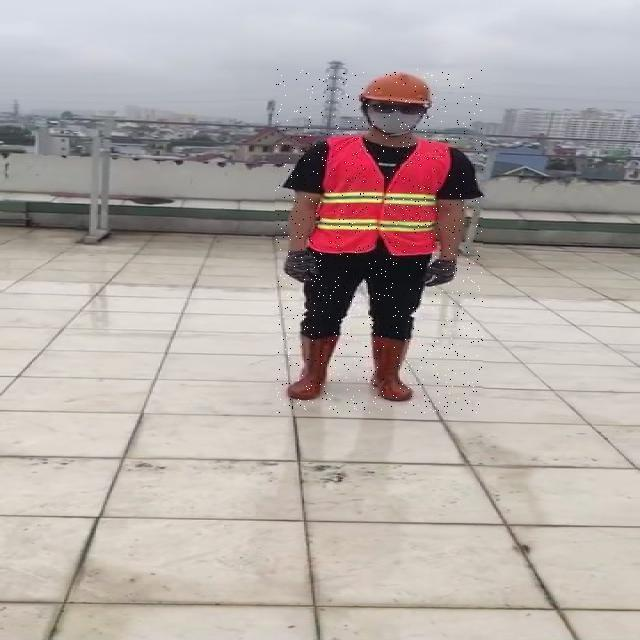gloves: (284, 245, 320, 285), (419, 255, 457, 289)
goggles: (367, 99, 428, 117)
helmet: (361, 72, 437, 106)
safety_vest: (309, 136, 453, 253)
